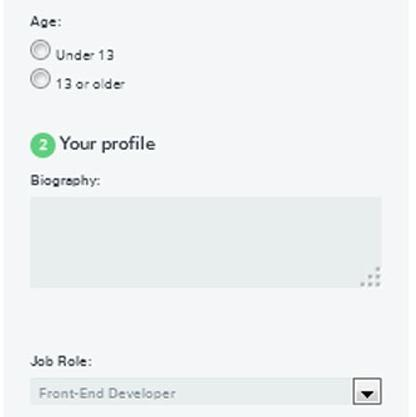field: (26, 194, 382, 292), (28, 374, 385, 407)
field_with_label: (22, 172, 388, 294), (25, 353, 389, 411)
radio: (27, 37, 57, 65), (29, 63, 55, 93)
radio_with_label: (21, 33, 118, 68), (23, 63, 123, 95)
